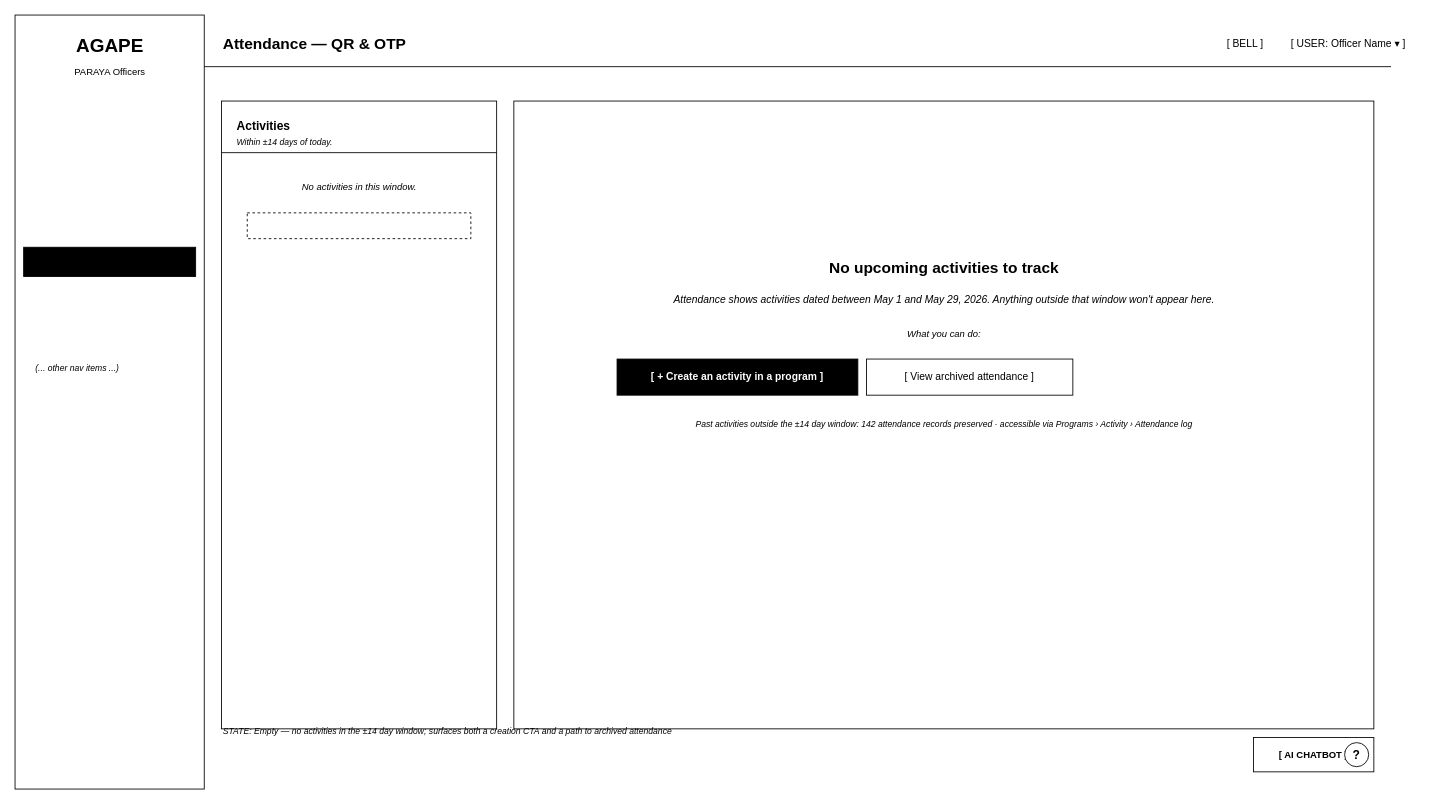
Image size: 1441x804. Some labels were removed from this diagram. The centre of each missing label's shape, as x and y in pixels:
[ + Add an activity to a program ]: (358,225)
[x] Attendance: (109,261)
